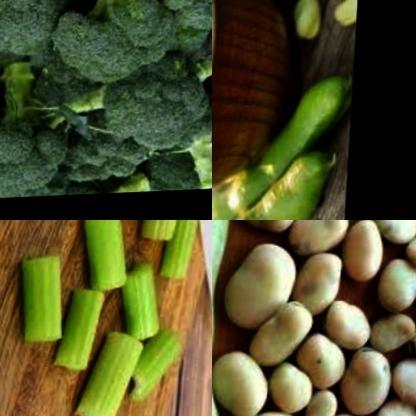beans: (223, 220, 416, 416), (212, 79, 353, 220), (212, 220, 242, 416), (279, 0, 320, 53), (331, 0, 360, 64)
broccoli: (0, 0, 212, 204)
celery: (69, 330, 148, 416), (54, 284, 112, 384), (20, 250, 70, 355), (132, 331, 194, 410), (75, 220, 135, 299), (118, 264, 168, 352), (158, 220, 201, 291), (138, 220, 191, 252)
